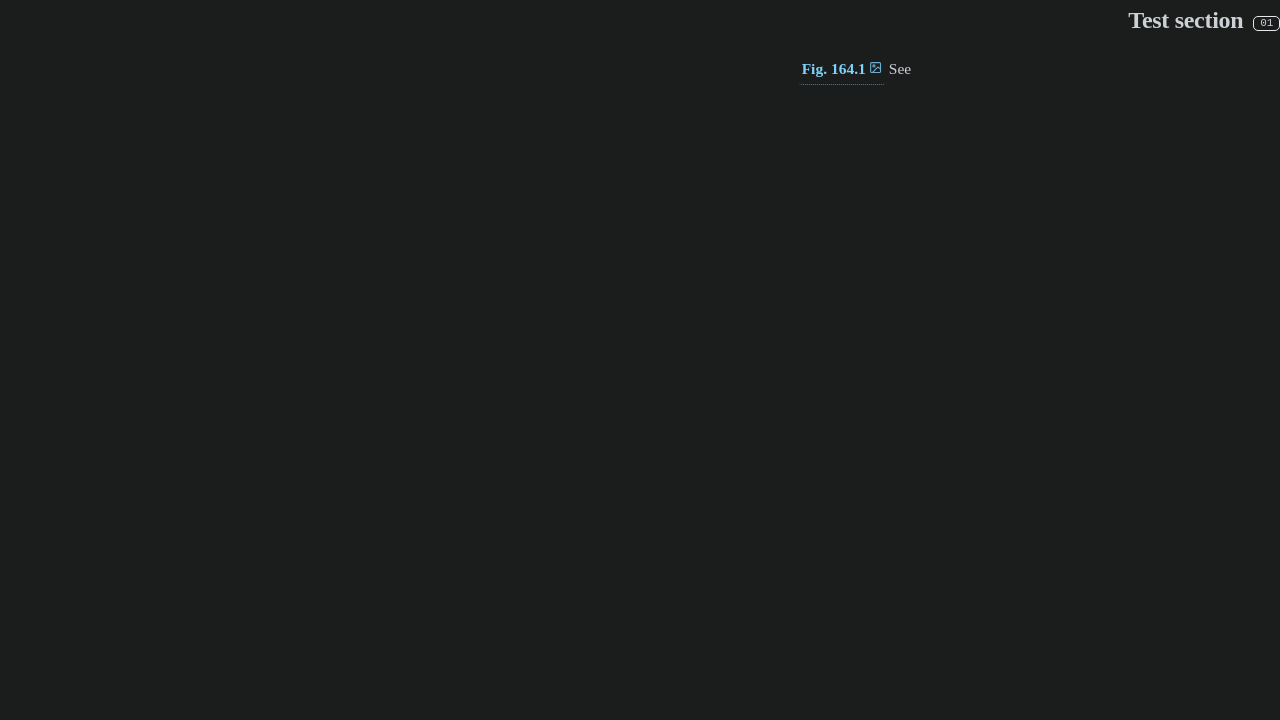
Test case: Media reader pipeline — Phase 2 registry resolution › shows a chapter-wide thumbnail rail and switches the main image by thumbnail click
Click the button "Fig. 164.1" at (842, 70), box [799,54,885,85]
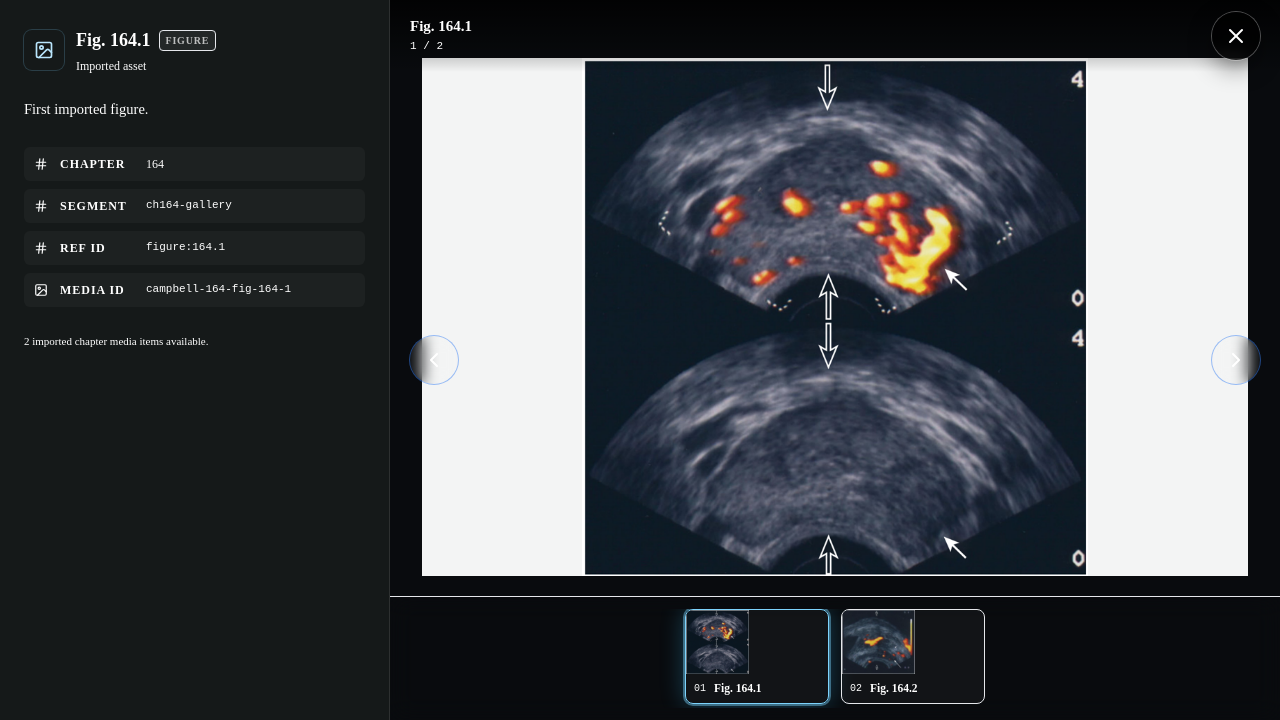
expect the number of buttons with test id "media-thumbnail" is 2: met
Click the button with test id "media-thumbnail" at (913, 656), box [841,609,985,704]
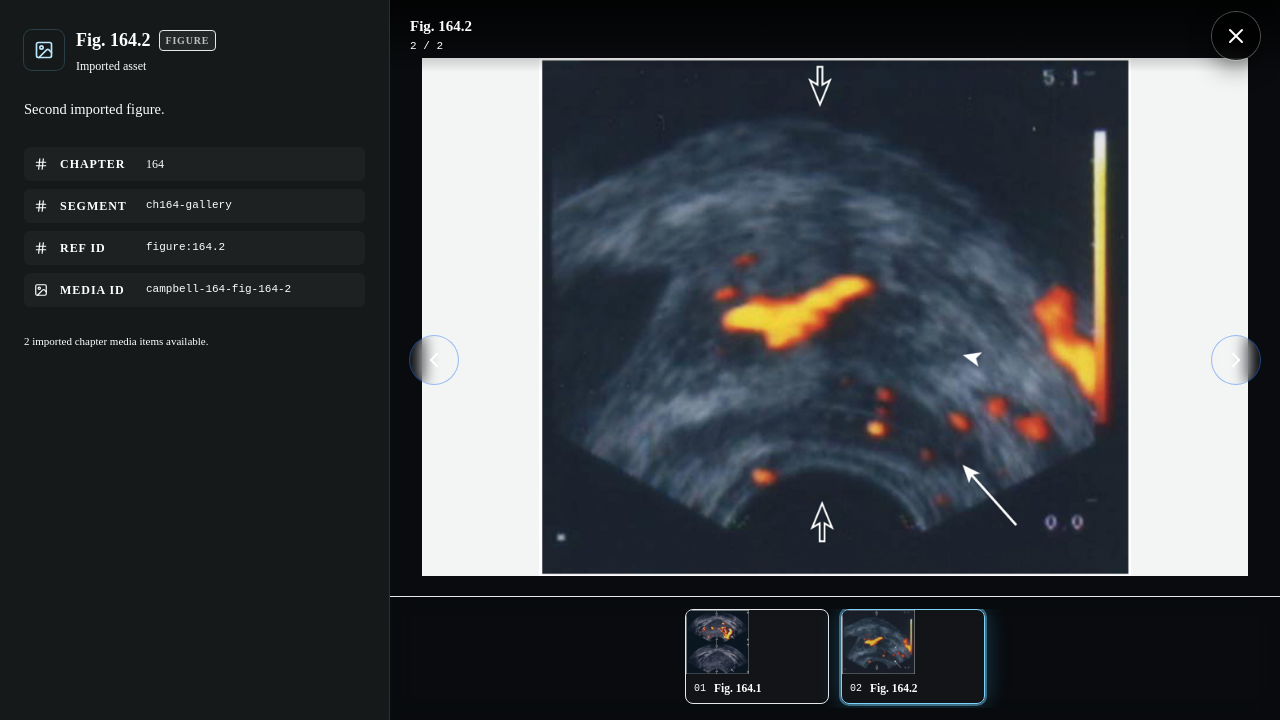
expect the text with test id "media-caption" shows "Second imported figure": met, box [24,101,164,117]
